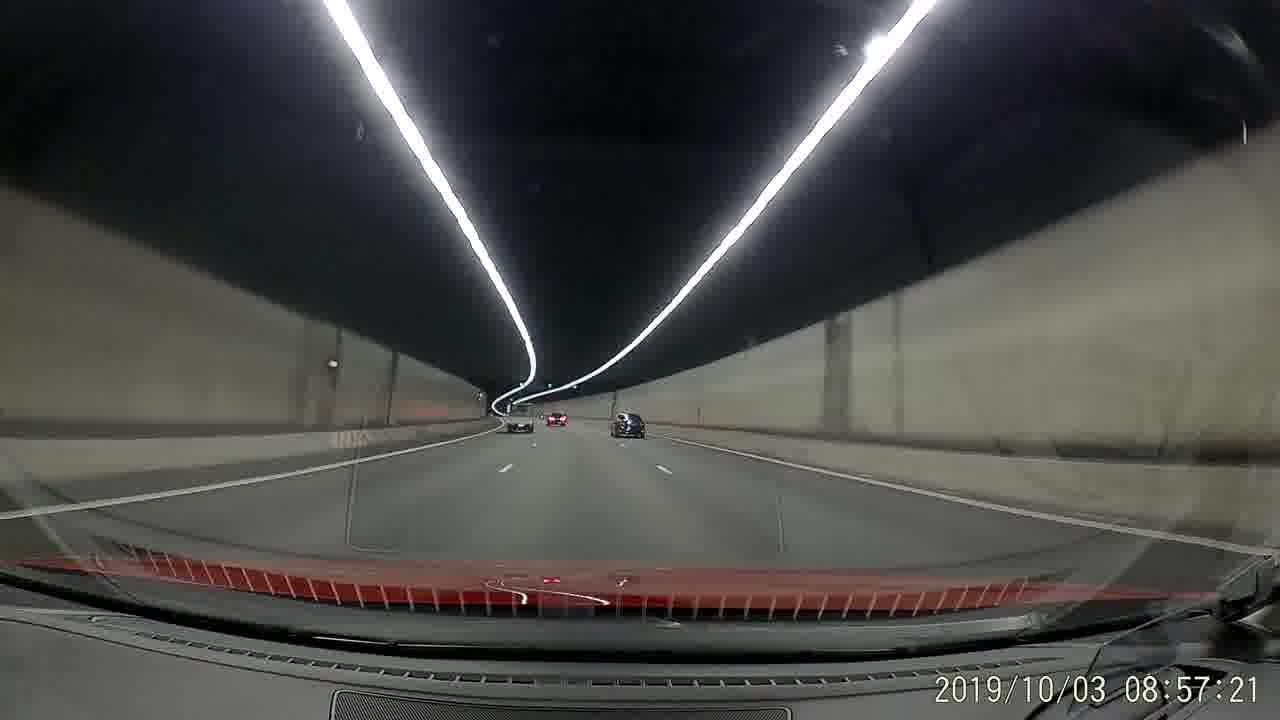car: (608, 408, 645, 439), (545, 408, 568, 427)
